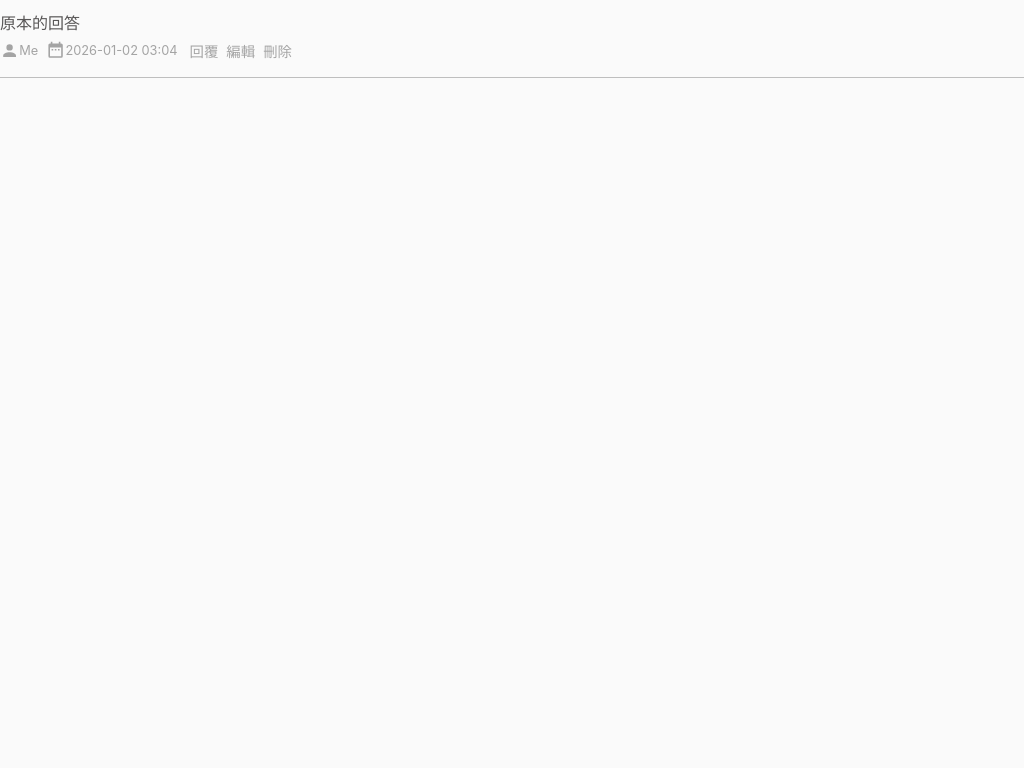
AnswerCard › 刪除 › 確認後刪除、關閉視窗並通知重新載入
Click the text "刪除".
click(278, 52)  # box x1=263 y1=43 x2=292 y2=60
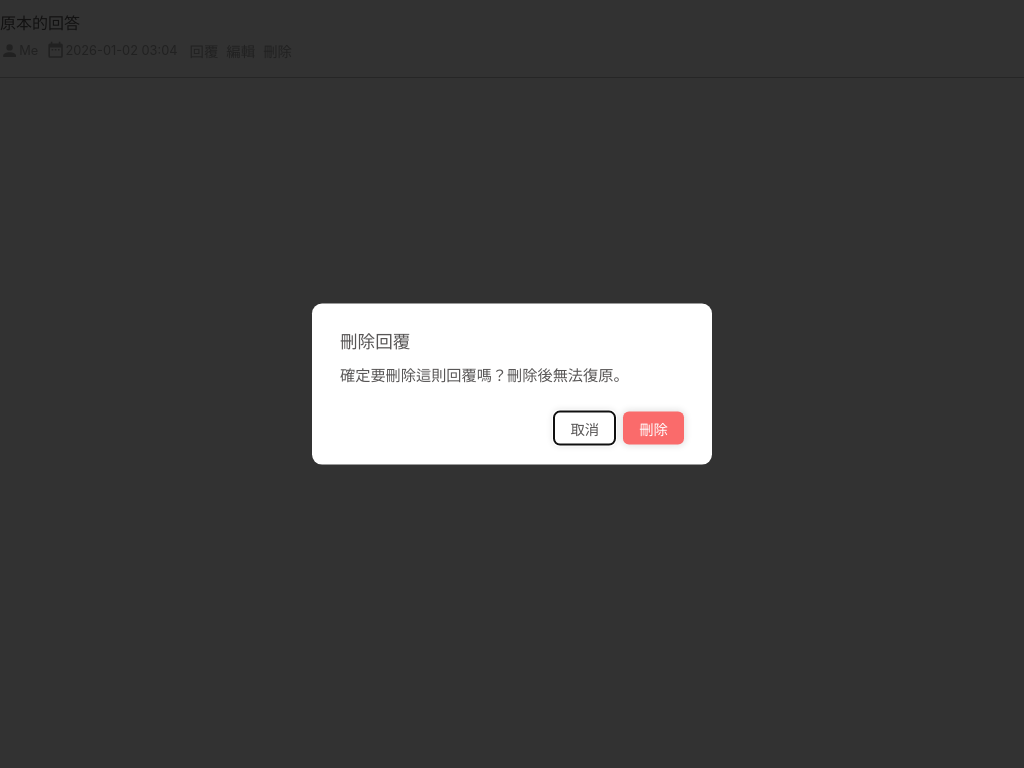
Click the button "刪除".
click(654, 428)  # box x1=623 y1=411 x2=684 y2=444
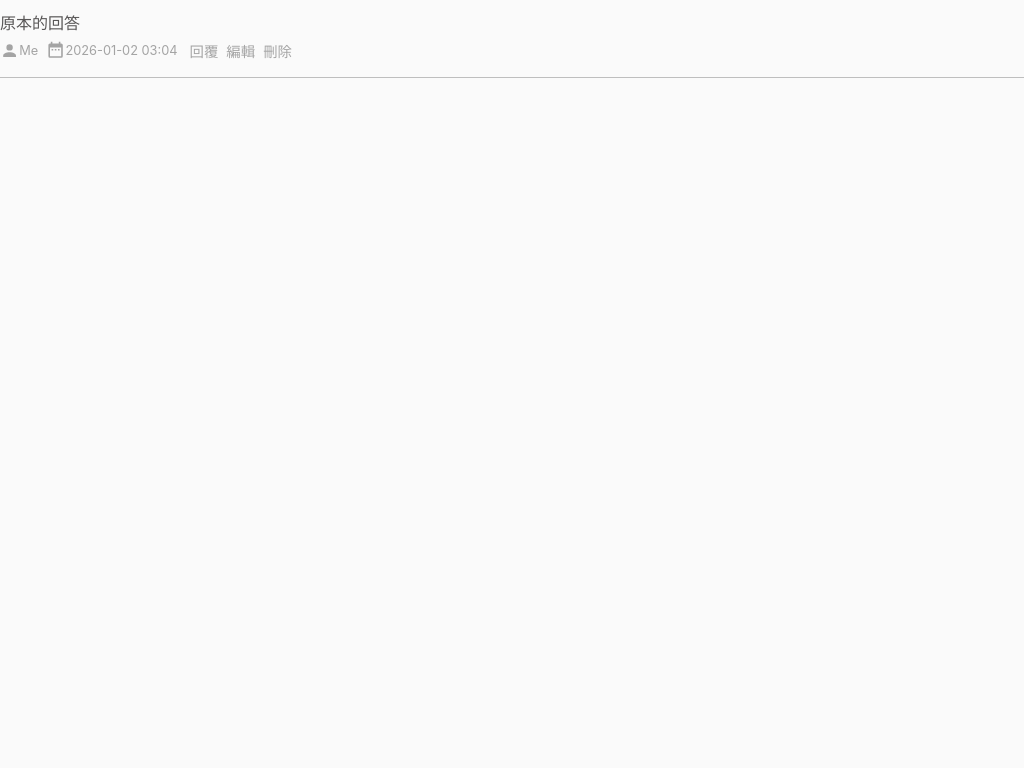
Check: the dialog is gone
